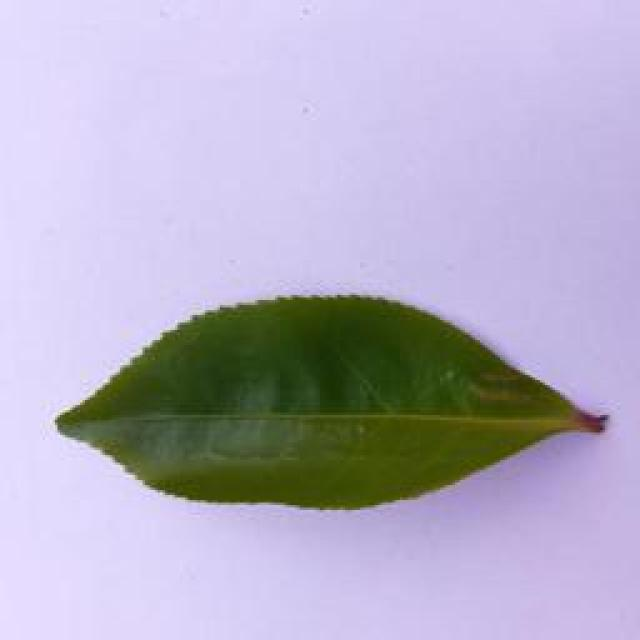Healthy: (54, 291, 622, 513)
